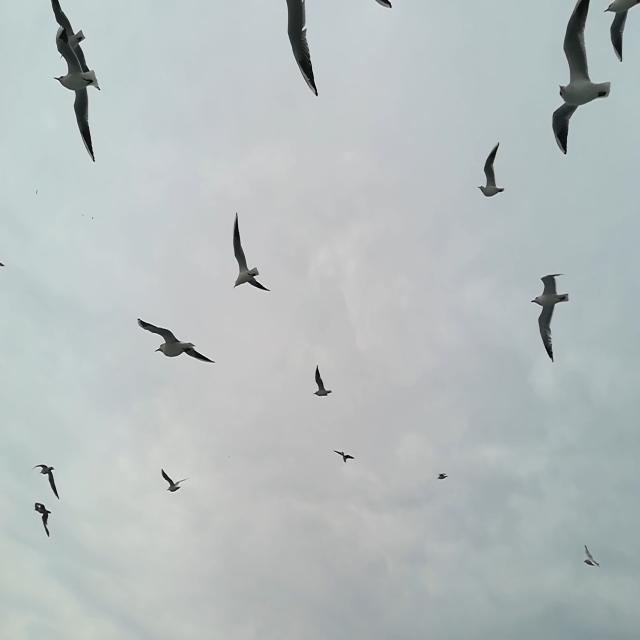bird: (552, 1, 611, 155), (53, 29, 99, 163), (50, 0, 102, 93), (137, 317, 217, 363), (529, 274, 568, 362), (286, 1, 319, 98), (232, 211, 270, 292), (603, 0, 639, 62), (478, 140, 504, 198), (34, 464, 62, 501), (34, 502, 55, 537), (160, 469, 189, 492), (314, 365, 332, 396), (584, 544, 600, 569), (334, 449, 356, 462), (375, 0, 392, 9), (438, 472, 448, 481), (0, 262, 5, 270), (36, 188, 38, 196), (92, 216, 94, 220), (82, 214, 84, 216)
